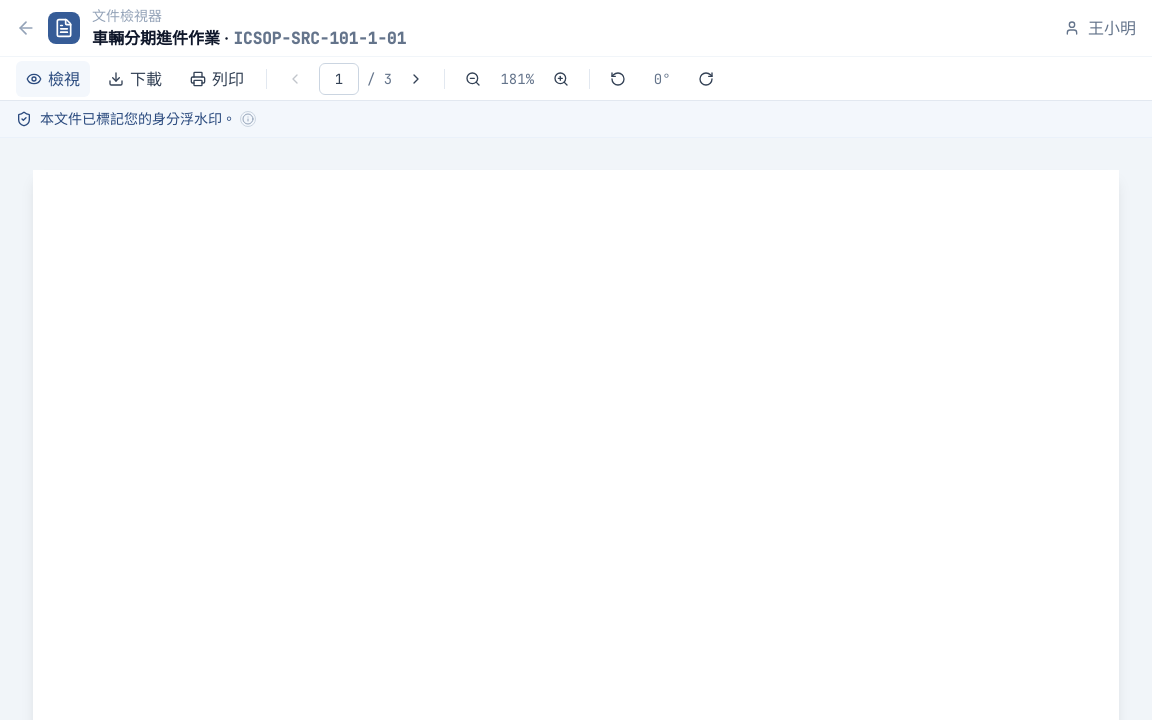
PublicViewerPage — 逐頁旋轉（2026-08-26 UX ①） › 🔴 逐頁記憶：第 1 頁轉 90° 後翻到第 2 頁不受影響，翻回第 1 頁仍是 90°
This screenshot has width=1164, height=720.
Click the button named "向右旋轉 90 度" at (706, 78), box [690,62,722,94]
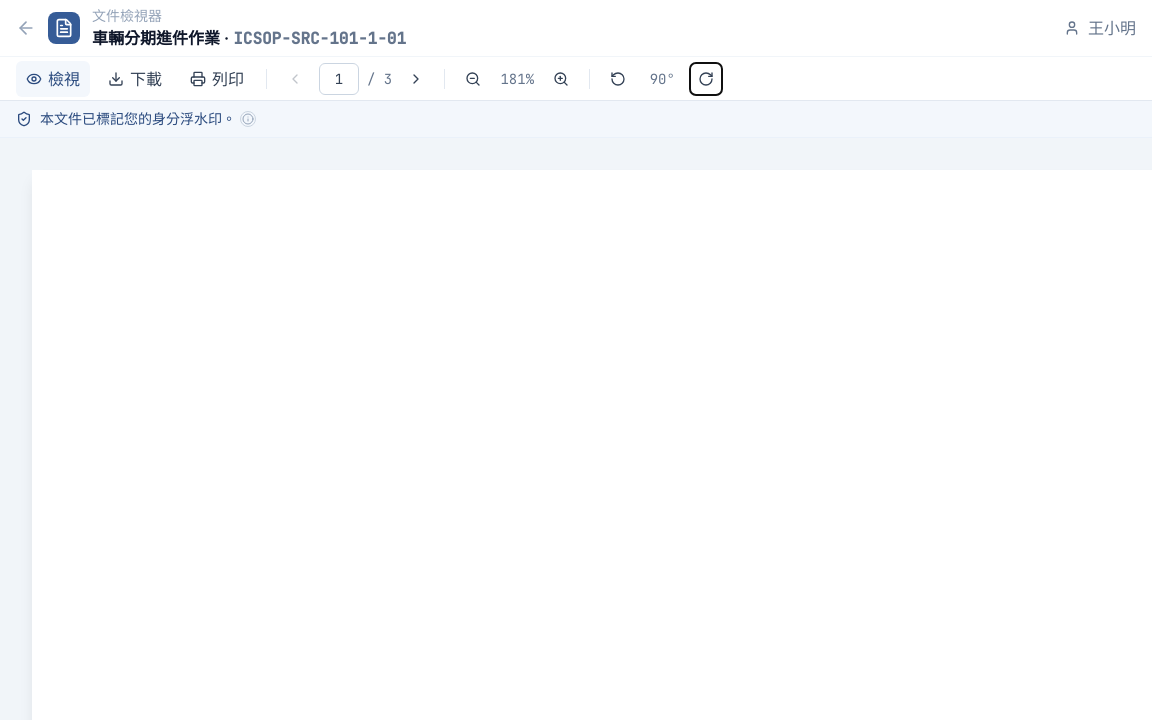
Click the button named "下一頁" at (416, 78), box [400,62,432,94]
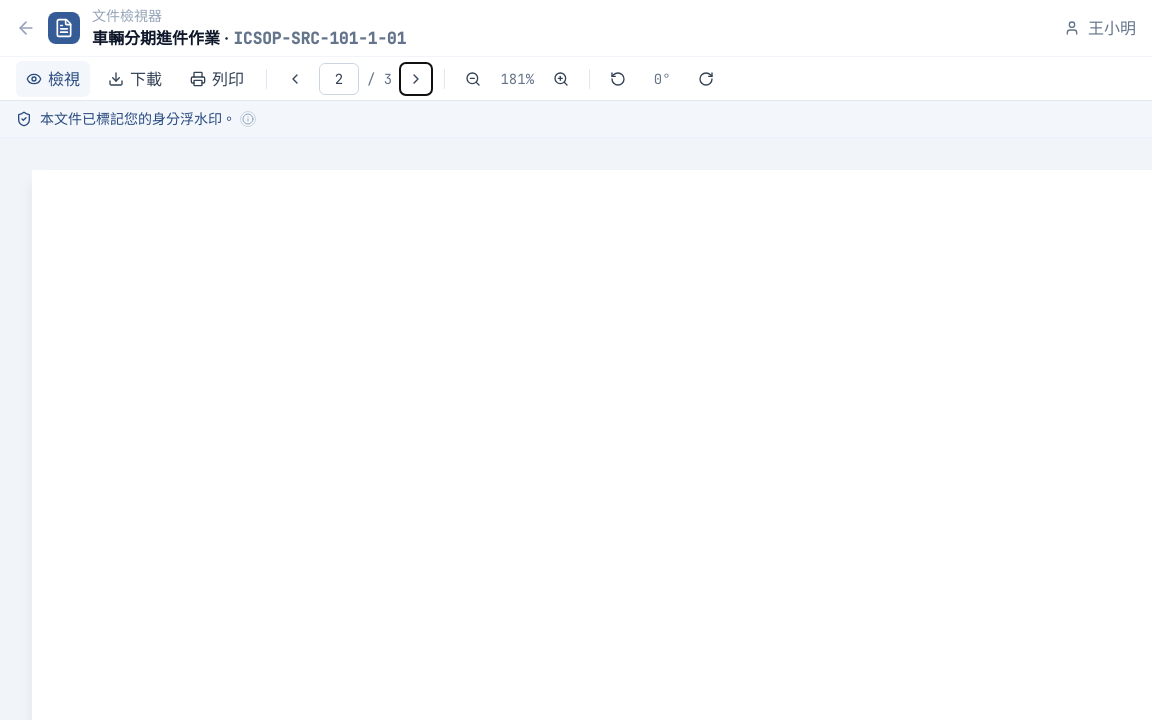
Check: the text with test id "rotate-label" reads "0°", box [654,70,671,88]
Click the button named "上一頁" at (295, 78), box [279,62,311,94]
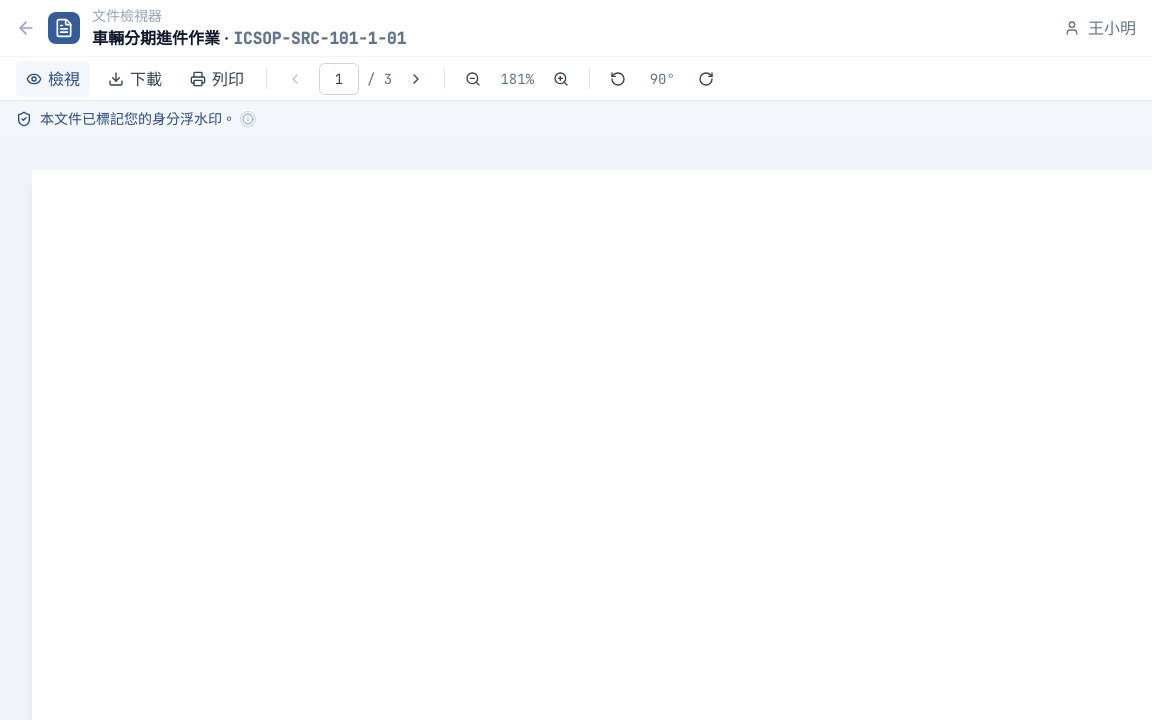
Check: the text with test id "rotate-label" reads "90°", box [650,70,675,88]
